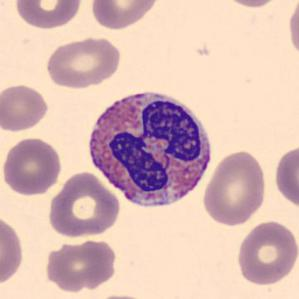Eosinophil: (81, 81, 218, 216)
RBC: (201, 148, 269, 228), (47, 170, 122, 240), (43, 34, 123, 90), (234, 218, 298, 288), (42, 236, 119, 294), (0, 135, 64, 197), (0, 81, 50, 133), (89, 0, 163, 31), (13, 0, 83, 30), (0, 212, 26, 288), (272, 142, 298, 211), (285, 0, 299, 62), (214, 0, 285, 9), (87, 292, 157, 299)
